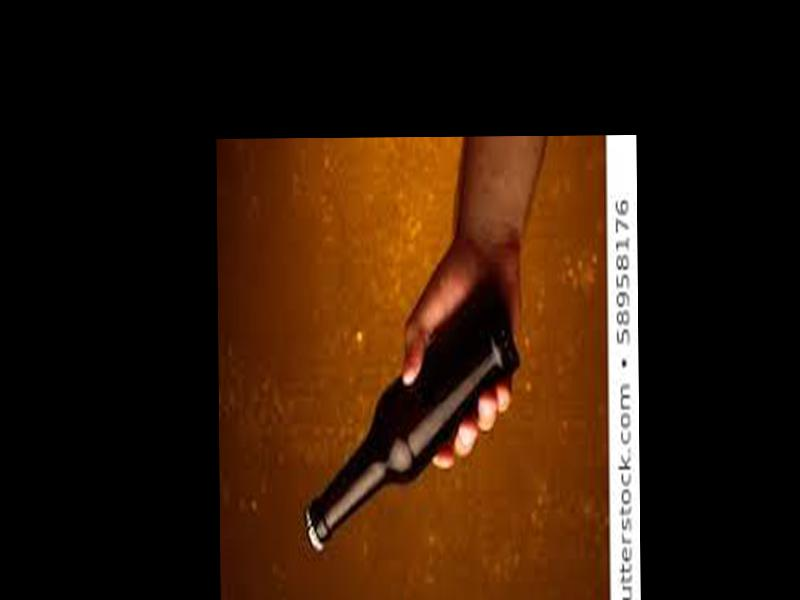Beer: (301, 272, 521, 554)
